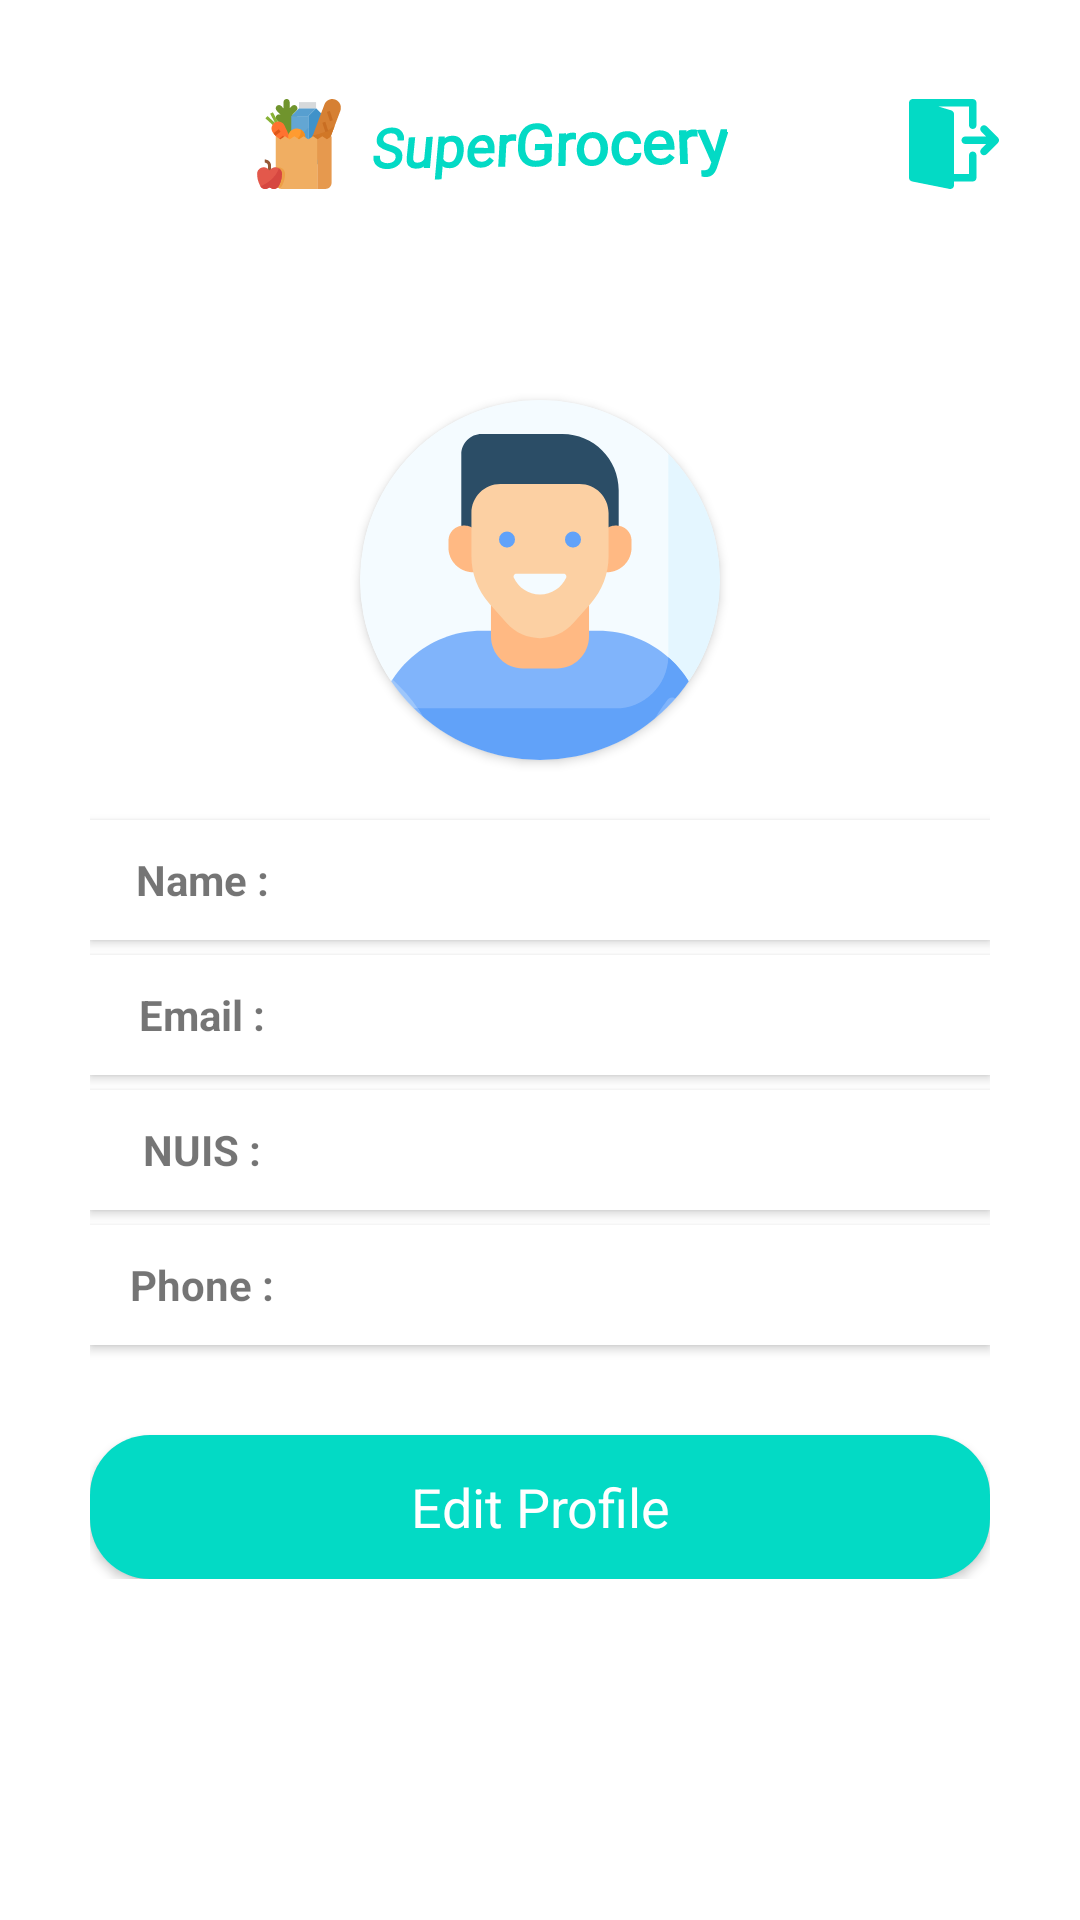

Named icons in this screenshot (1080 x 1920) and their bounding boxes, (x1, y1, x2, y2):
profile: (360, 434, 720, 760)
